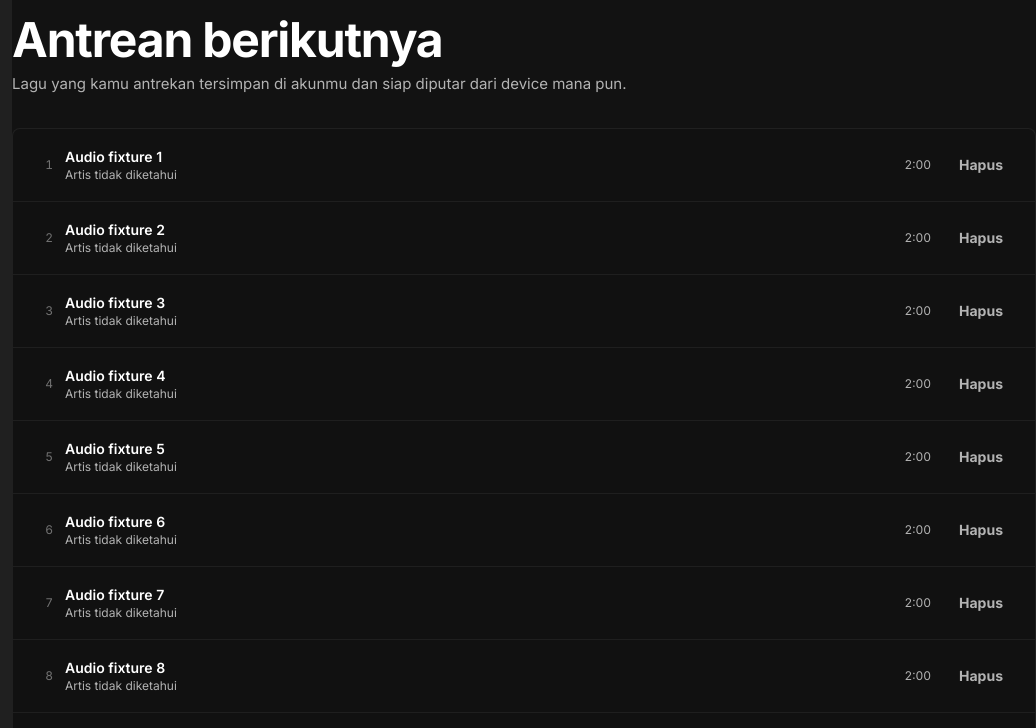
QueuePage pagination › retries a failed refresh after deletion without allowing another mutation
The width and height of the screenshot is (1036, 728).
Click the button with aria-label "Hapus Audio fixture 1 dari antrean". click: coordinates (981, 165)
box: [943,143,1019,187]
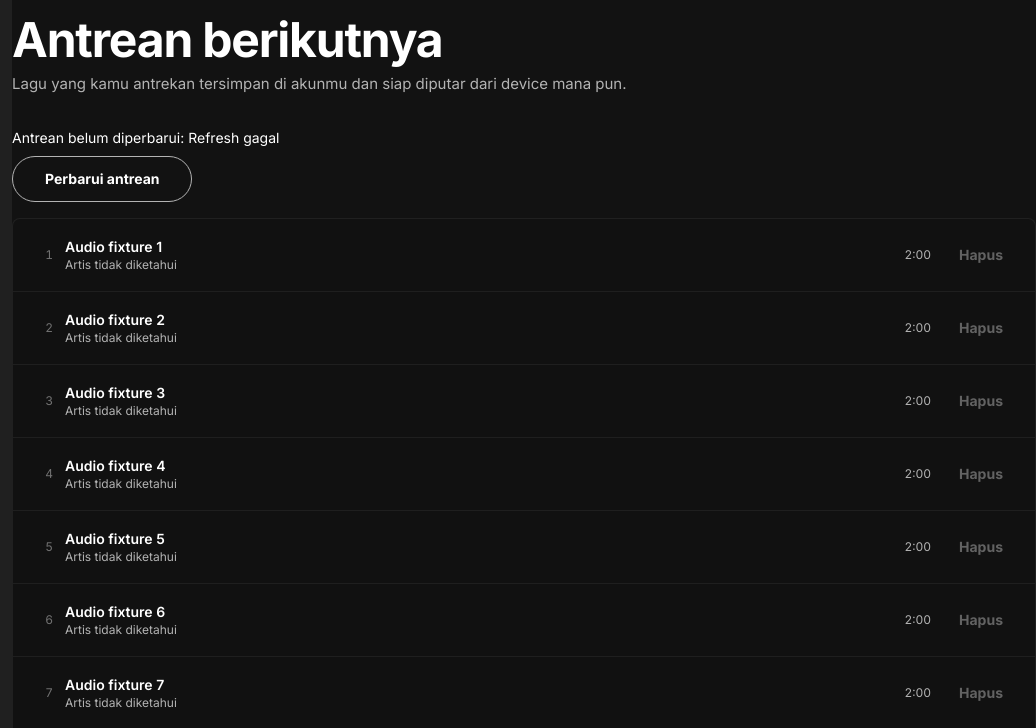
Expected: the message "Antrean belum diperbarui: Refresh gagal Perbarui antrean" is shown, [12,129,280,202]
Expected: the button with aria-label "Hapus Audio fixture 2 dari antrean" is disabled, [943,306,1019,350]
Click the button "Perbarui antrean". click: coordinates (102, 179)
box: [12,156,192,202]
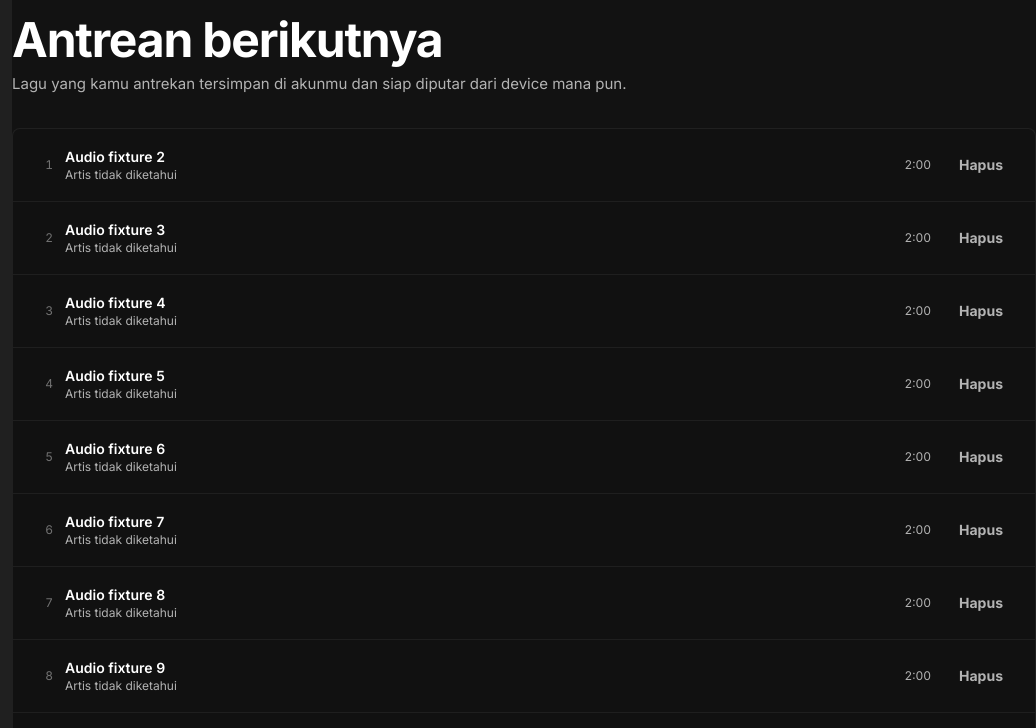
Expected: the button with aria-label "Hapus Audio fixture 2 dari antrean" is enabled, [943,143,1019,187]
